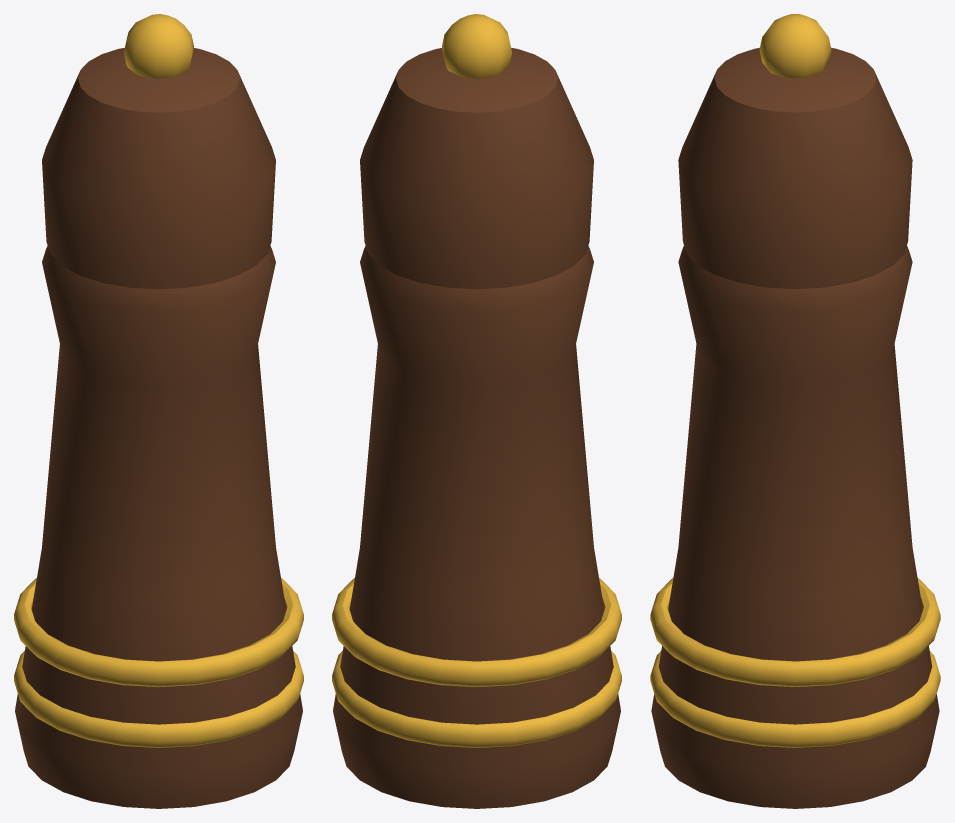
The model's file is moedor_pimenta_madeira.glb.
The picture shows the model from 3 angles, left to right: view 1: azimuth 30°, elevation 25°; view 2: azimuth 150°, elevation 25°; view 3: azimuth 270°, elevation 25°; orthographic projection.
Parts seen in each view (by area): view 1: moedor_pimenta_madeira; view 2: moedor_pimenta_madeira; view 3: moedor_pimenta_madeira.
Part boxes in pixels (box(x1,y1,x2,y2)): moedor_pimenta_madeira: box(14, 14, 303, 808); moedor_pimenta_madeira: box(332, 14, 621, 808); moedor_pimenta_madeira: box(650, 14, 940, 808).
Bounding box in the file's own units: 0.0644 × 0.18 × 0.0644.
Materials: 1 (1 with a texture image).
